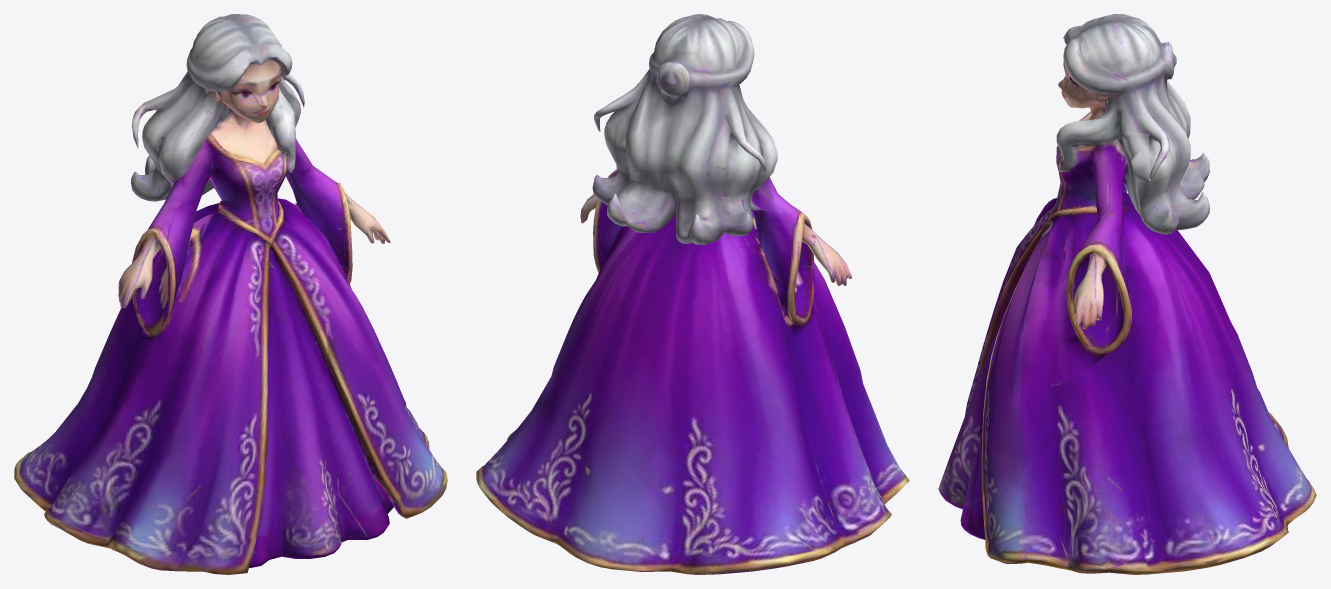
Rendered from vesperine.glb.
The picture shows the model from 3 angles, left to right: view 1: azimuth 30°, elevation 25°; view 2: azimuth 150°, elevation 25°; view 3: azimuth 270°, elevation 25°; orthographic projection.
Visible parts, largest first — view 1: Mesh_0; view 2: Mesh_0; view 3: Mesh_0.
Boxes of the visible parts, x1,y1,x2,y2 form: Mesh_0: (14,14,447,574); Mesh_0: (476,14,909,574); Mesh_0: (938,14,1316,574).
Bounding box in the file's own units: 1.54 × 1.9 × 1.35.
Materials: 1 (1 with a texture image).
